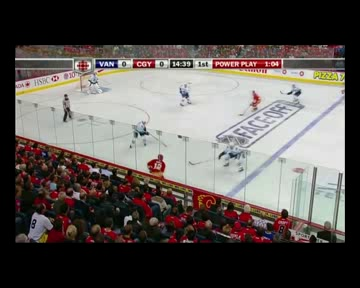normal: (216, 134, 250, 176), (126, 115, 153, 151)
